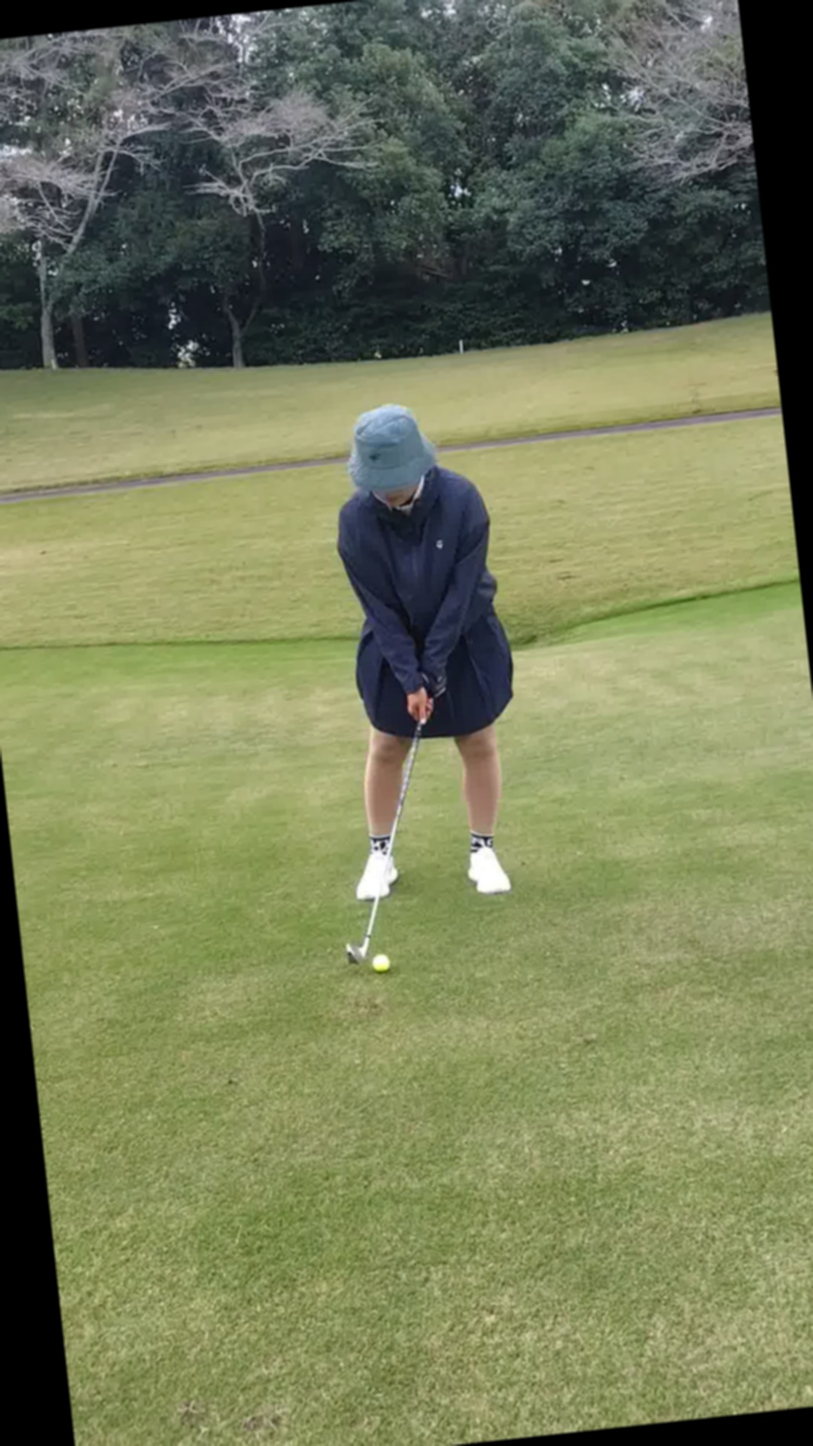clubhead: (264, 907, 461, 1009)
